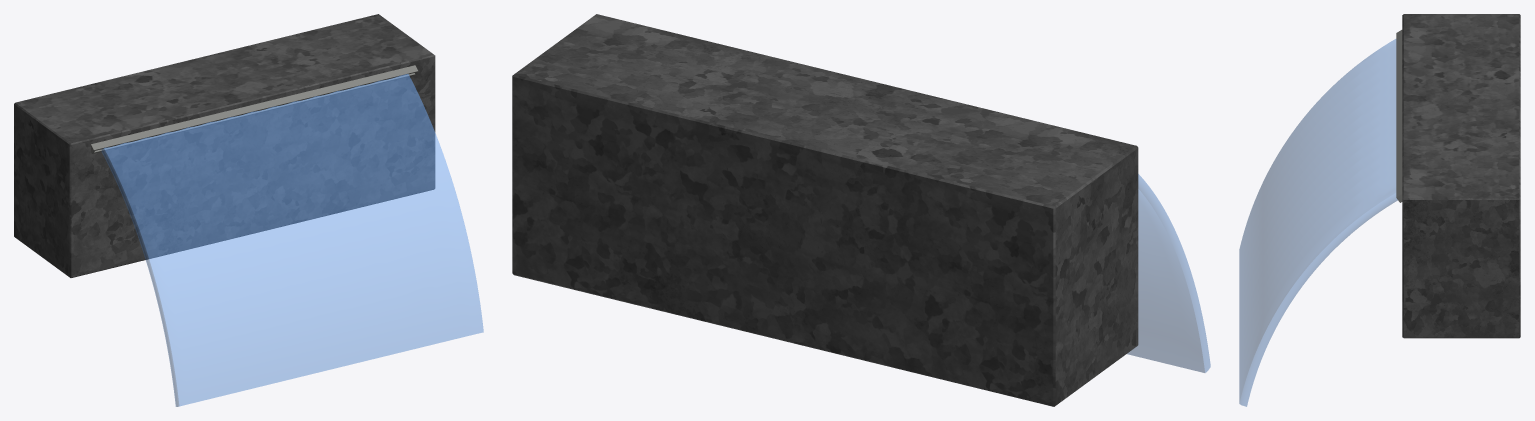
The model's file is waterBlade.glb.
3 views of the same model, side by side, from view 1: azimuth 30°, elevation 25°; view 2: azimuth 150°, elevation 25°; view 3: azimuth 270°, elevation 25° (orthographic). The views are drawn at different scales.
Parts seen in each view (by area): view 1: Water blade; view 2: Water blade; view 3: Water blade.
Boxes of the visible parts, left/top/right/bottom form: Water blade: left=14, top=14, right=483, bottom=406; Water blade: left=512, top=14, right=1210, bottom=406; Water blade: left=1239, top=14, right=1520, bottom=406.
Bounding box in the file's own units: 2.38 × 1.34 × 1.53.
3 materials, 1 textured.
